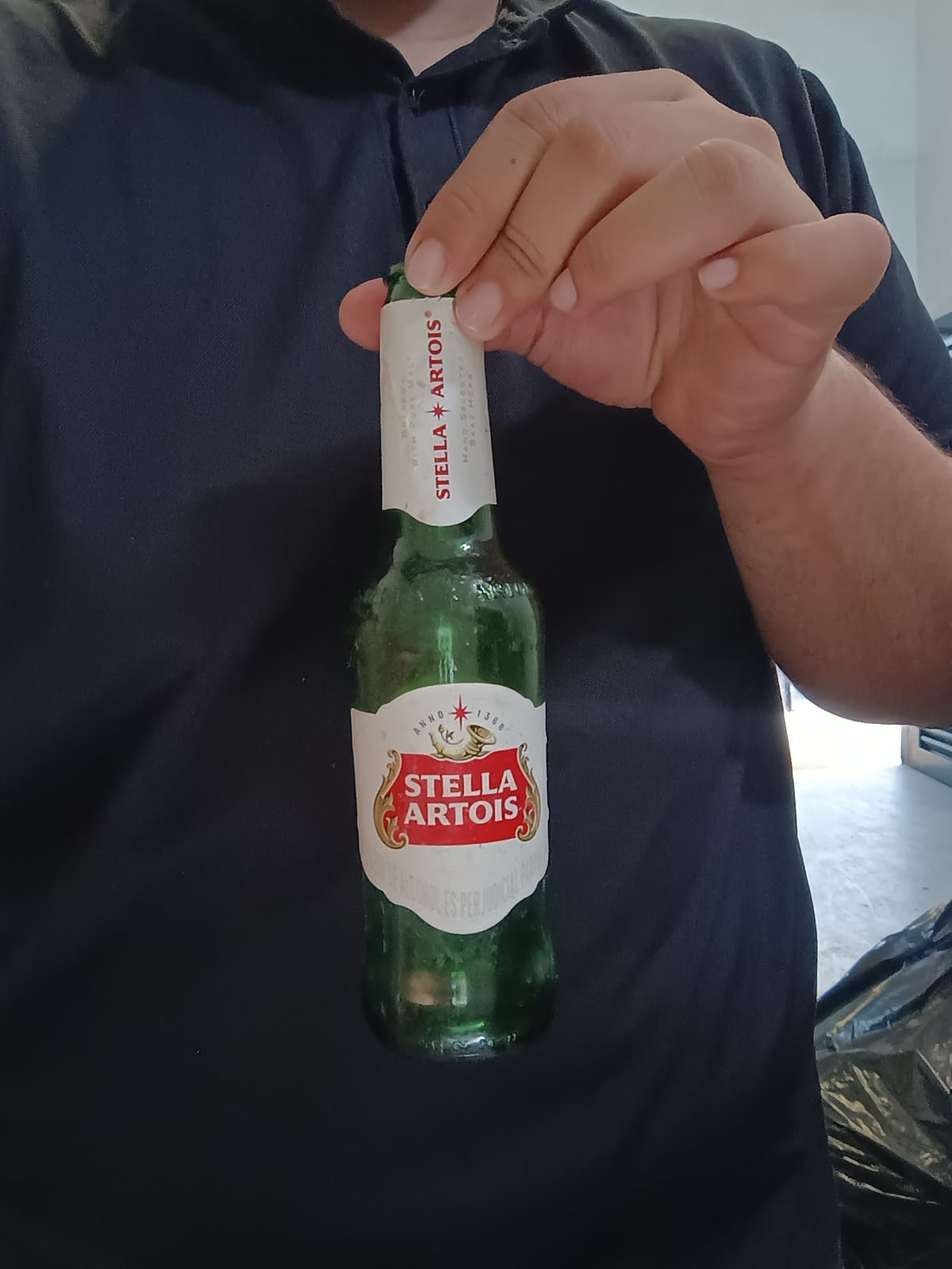Vidrio: (347, 258, 556, 1062)
